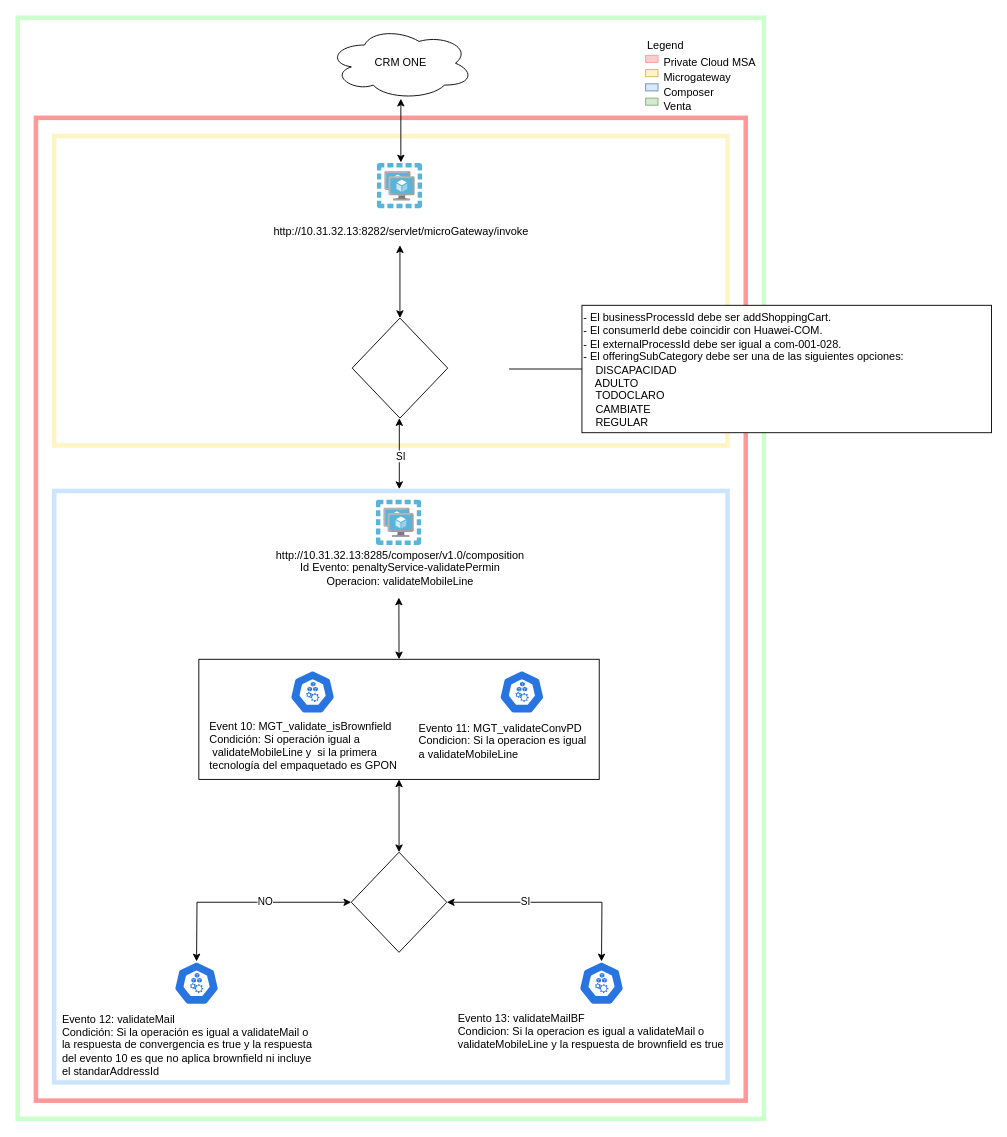
This 1007x1137 diagram has some shape labels left out. The shapes that lost their labels are listed below. From the top down, each one's box as (x1, y1, x2, y2) in pixels, then its label:
(351, 317, 448, 418): El request satisface los siguientes criterios:
(350, 851, 447, 952): Aplica Brownfield
